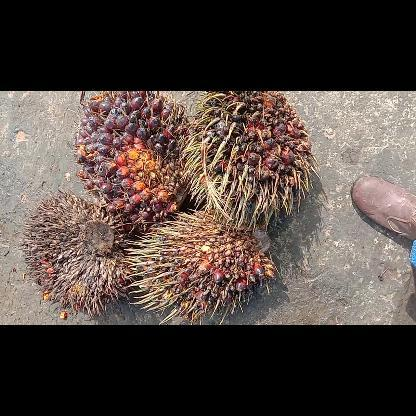Kurang masak: (193, 92, 316, 220)
TBS abnormal: (123, 210, 275, 324), (22, 194, 128, 316)
Terlalu masak: (71, 91, 193, 231)
